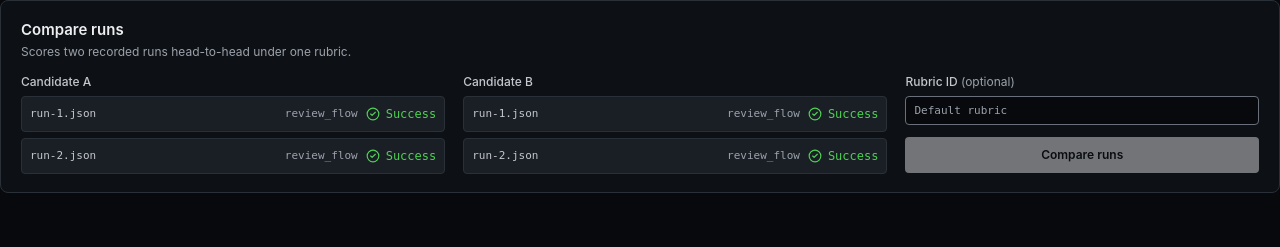
it: RunComparePanel › explains an unreachable API with the just-dev remedy
Click the button with aria-label "pick run-1.json for candidate A": (63, 114) [21,96,445,132]
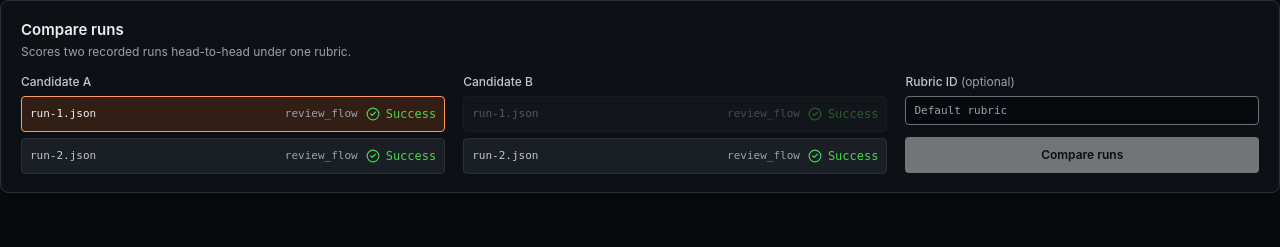
Click the button with aria-label "pick run-2.json for candidate B": (505, 156) [463,138,887,174]
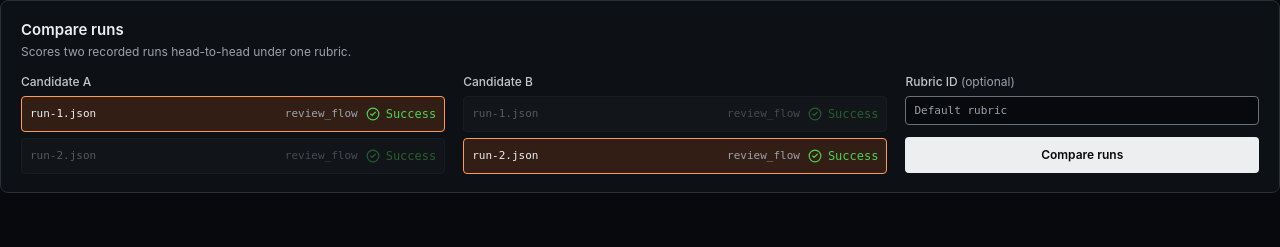
Click the button "Compare runs": (1082, 154) [906,136,1259,172]
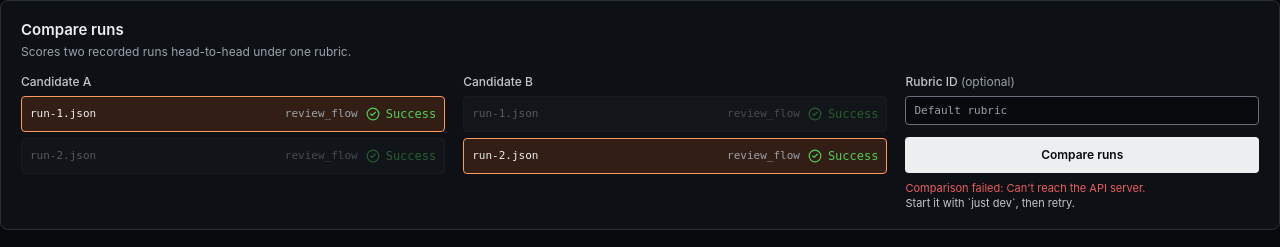
Expected: the message shows "Can't reach the API server", [1006,180,1146,194]
Expected: the message shows "just dev", [906,196,1075,210]
